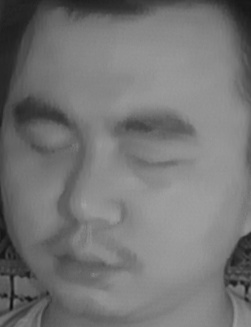blink: (130, 141, 188, 178), (22, 127, 77, 164)
mouth: (45, 232, 124, 287)
